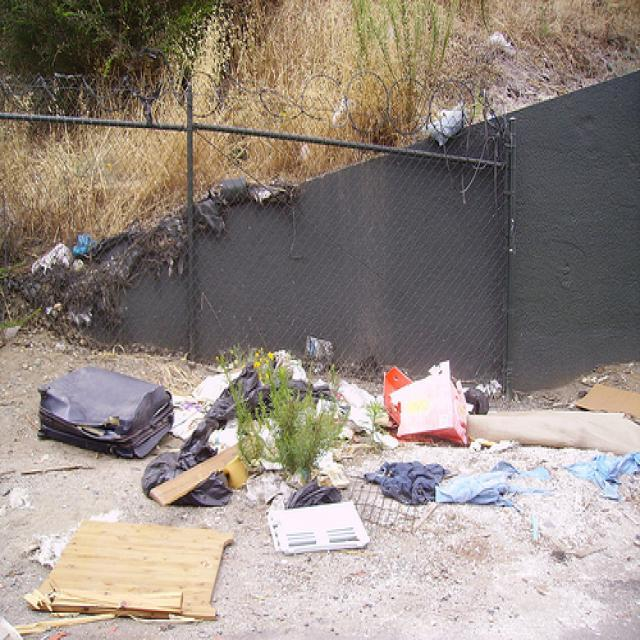trash: (25, 347, 179, 464), (366, 359, 494, 455), (254, 499, 394, 567)
